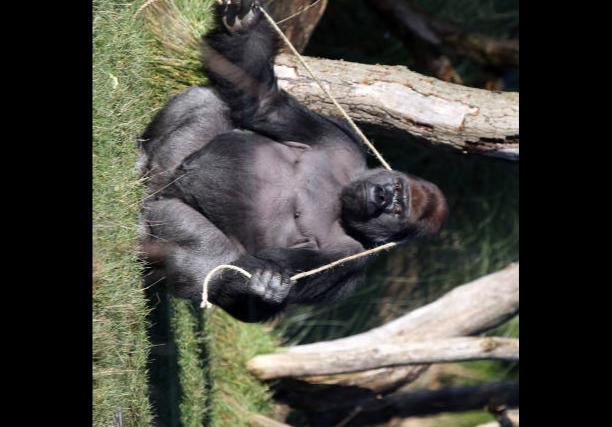gorille_Autres: (152, 8, 460, 334)
